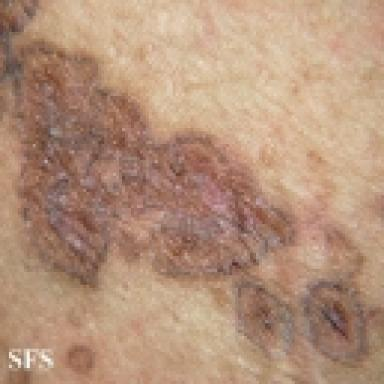Porokeratosis: (0, 0, 297, 282), (305, 227, 367, 361), (235, 277, 293, 359), (69, 347, 93, 372)
